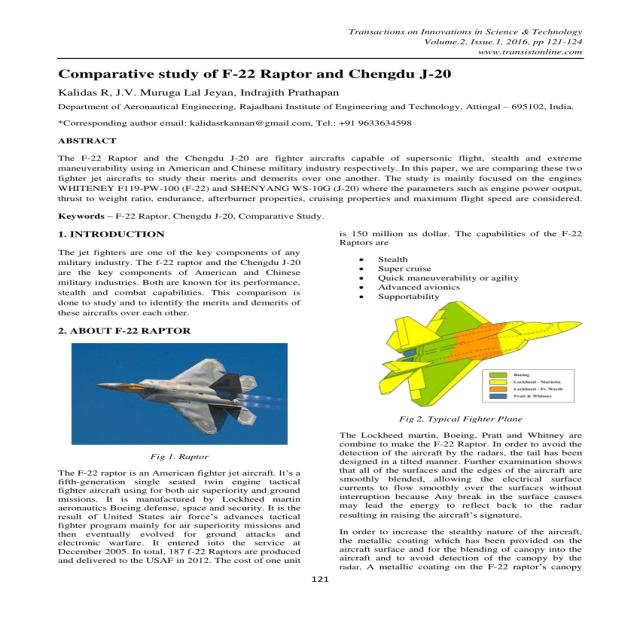MIL_Plane: (94, 358, 258, 435)
